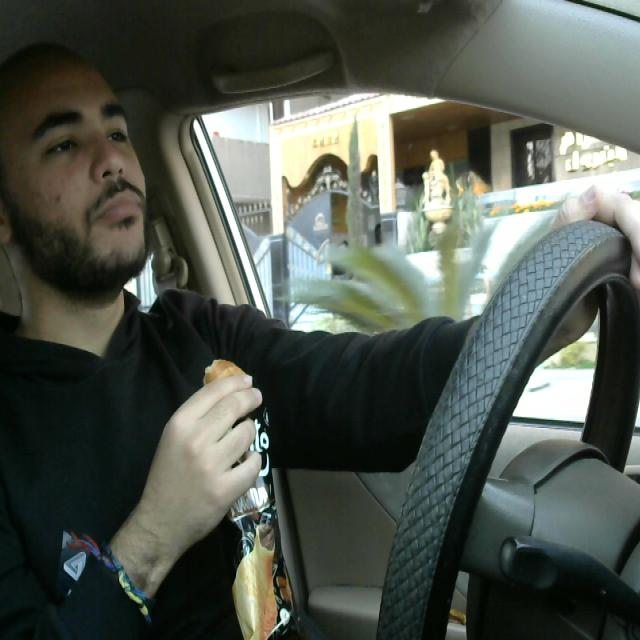eating: (196, 345, 314, 640)
